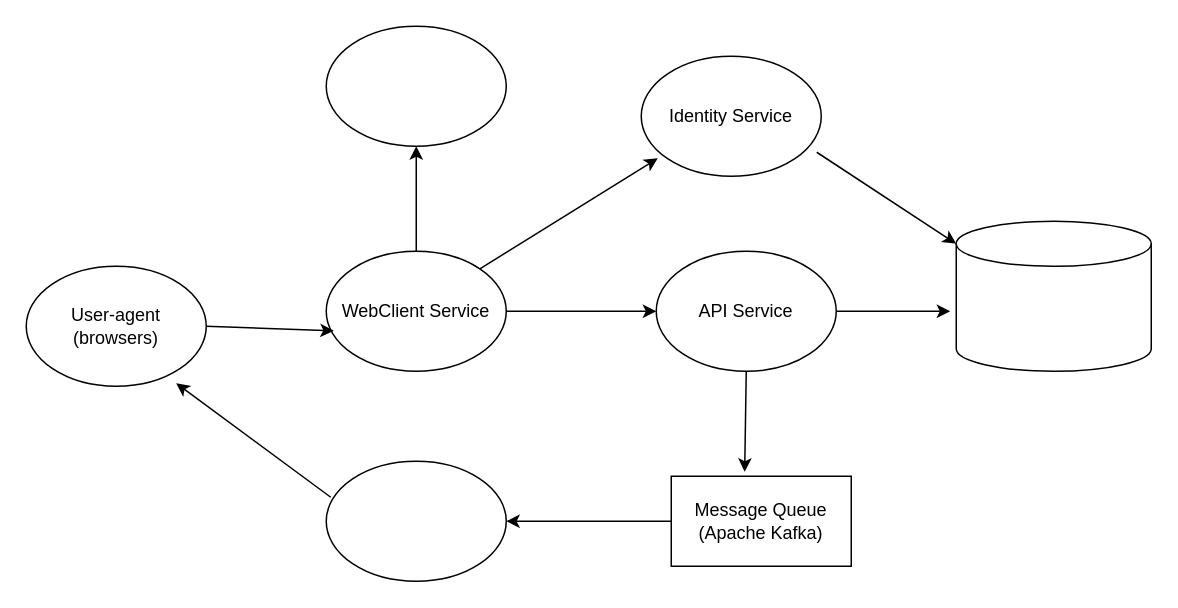
Some shapes in this 1178 by 608 pixel diagram are drawn without their labels. The shapes that lost their labels are listed below. From the top down, each one's centre as x and y in pixels, then its label:
the point at 415,85: File Service
the point at 1053,295: Persistence Service
the point at 415,520: Realtime Service
